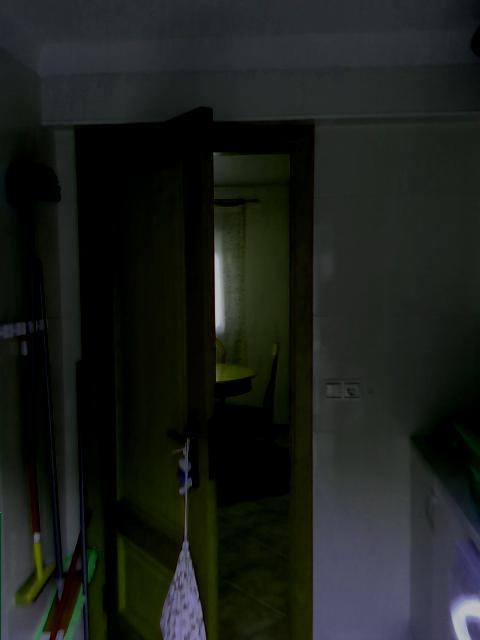semi_door: (76, 102, 315, 639)
